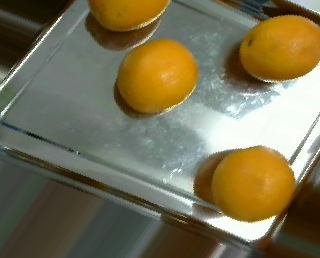Orange: (211, 144, 297, 222), (116, 38, 199, 114), (238, 13, 320, 83)
